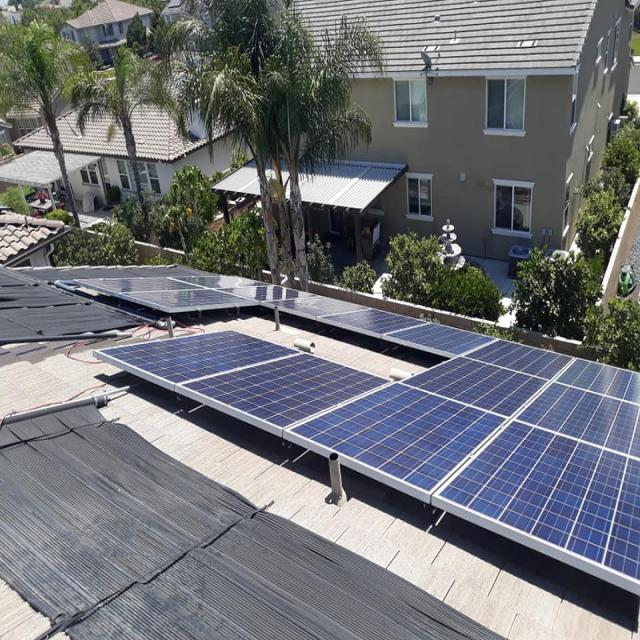clean-solar-panel: (62, 267, 640, 594)
